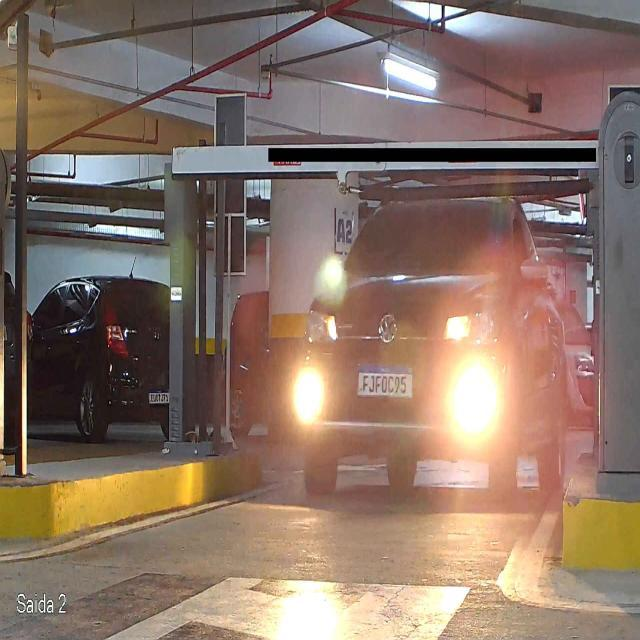mercosul_plate: (355, 364, 416, 400)
